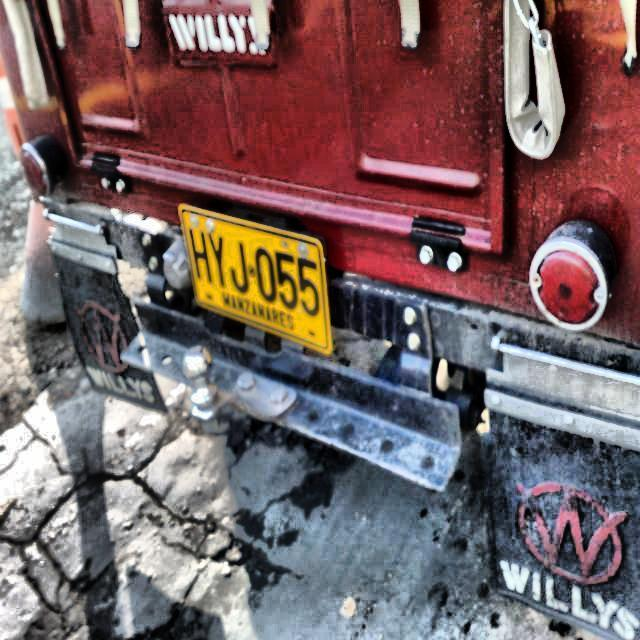plate: (178, 205, 332, 355)
